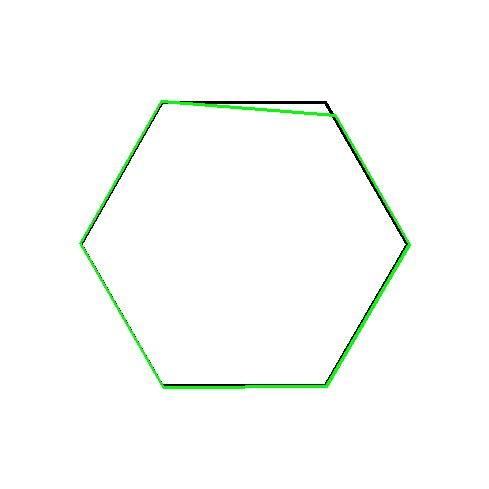line_segment: (80, 100, 410, 388)
